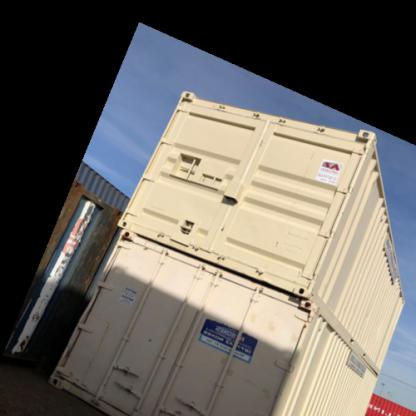Damage: (55, 366, 96, 407), (114, 367, 153, 410)
